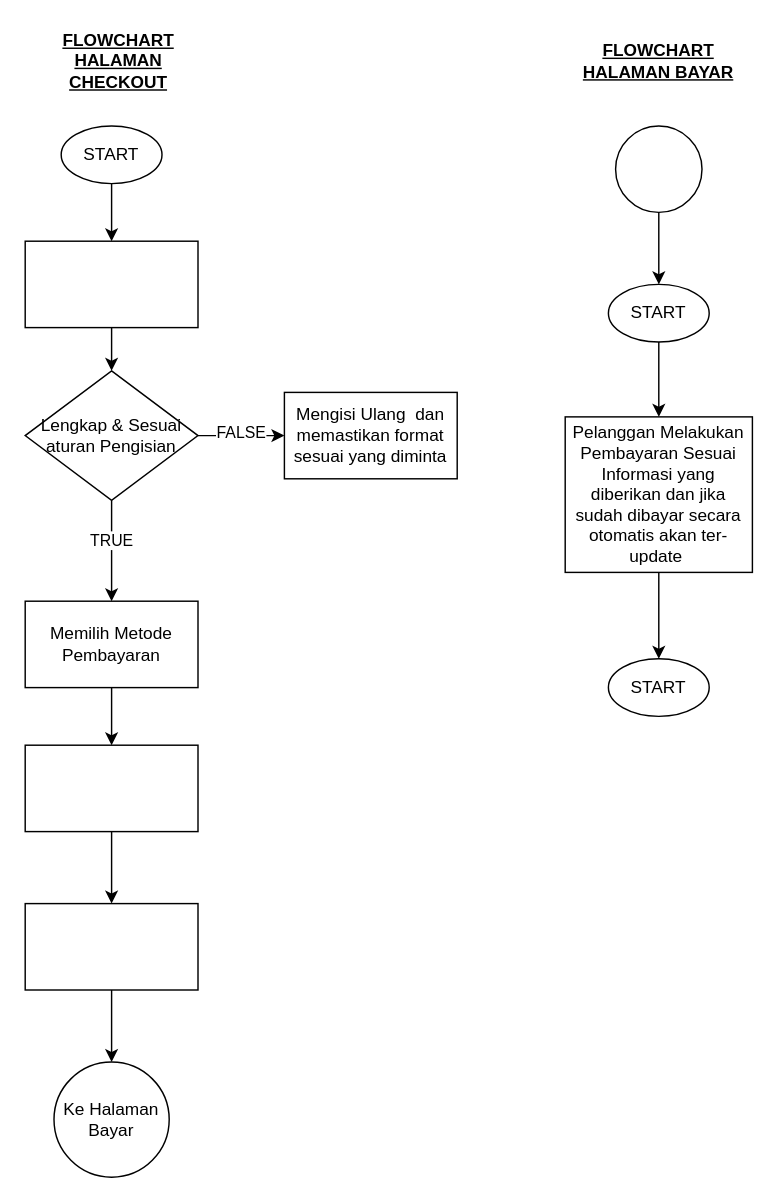
Some shapes in this 778 by 1202 pixel diagram are drawn without their labels. The shapes that lost their labels are listed below. From the top down, each one's box as (x1, y1, x2, y2) in pixels, then its label:
(614, 125, 702, 212): Halaman Bayar
(24, 240, 198, 328): Mengisi Data: Nama, No HP, Email dan Alamat Pengiriman
(24, 744, 198, 832): Melakukan Pengecekan pada Ringkasan Pesanan
(24, 902, 198, 990): Melanjutkan Ke Proses Bayar
